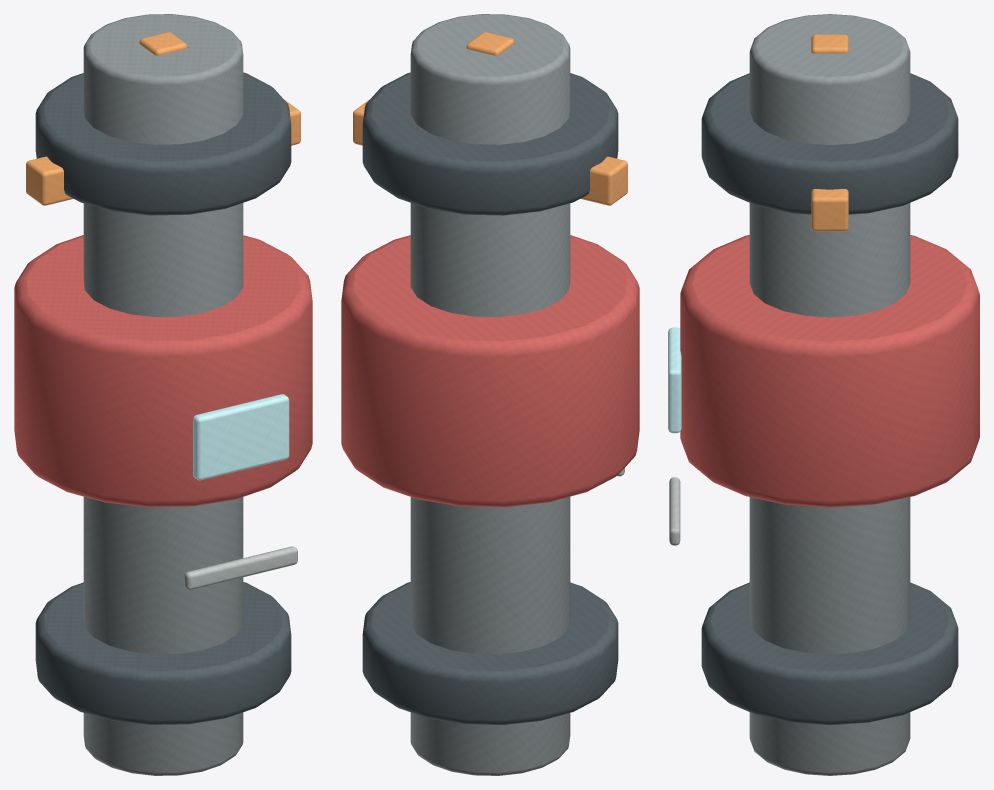
File: PipeValve.glb
3 renders of one model, left to right at view 1: azimuth 30°, elevation 25°; view 2: azimuth 150°, elevation 25°; view 3: azimuth 270°, elevation 25°, orthographic.
Visible parts, largest first — view 1: PipeValve_Mesh; view 2: PipeValve_Mesh; view 3: PipeValve_Mesh.
Boxes of the visible parts, x1,y1,x2,y2 form: PipeValve_Mesh: (14,14,312,775); PipeValve_Mesh: (341,14,639,775); PipeValve_Mesh: (668,14,979,775).
Size of the model in its own units: 0.56 by 1.45 by 0.5825.
6 materials, 6 textured.
